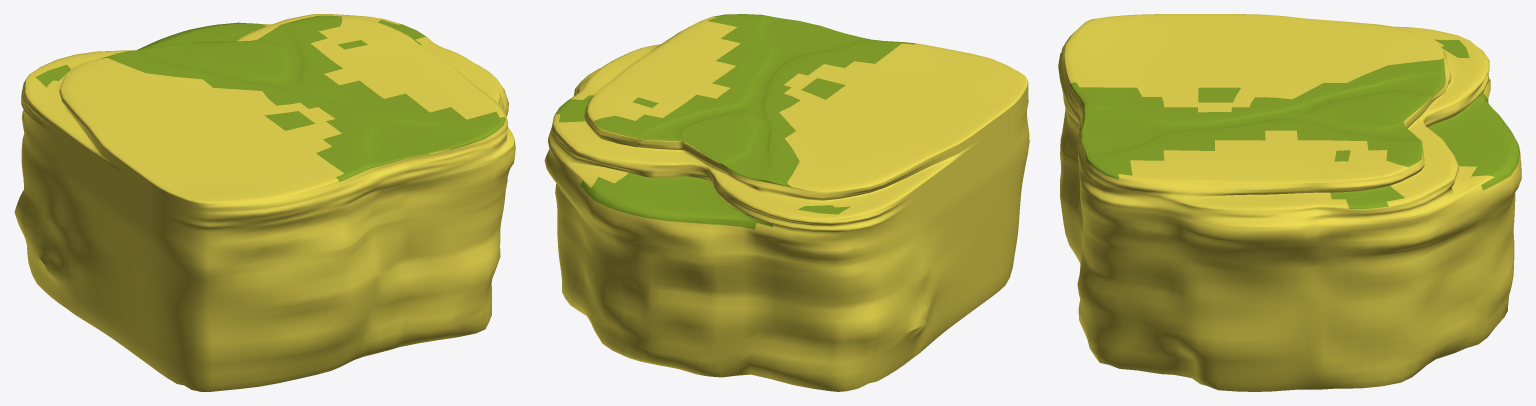
The model's file is MSH_env_plateau_v3.obj.
3 views of the same model, side by side, from view 1: azimuth 30°, elevation 25°; view 2: azimuth 150°, elevation 25°; view 3: azimuth 270°, elevation 25° (orthographic). The views are drawn at different scales.
Parts seen in each view (by area): view 1: MSH_env_plateau_v2 env_base_s6 env_base; view 2: MSH_env_plateau_v2 env_base_s6 env_base; view 3: MSH_env_plateau_v2 env_base_s6 env_base.
Part boxes in pixels (x1,y1,x2,y2): MSH_env_plateau_v2 env_base_s6 env_base: (14, 14, 515, 391); MSH_env_plateau_v2 env_base_s6 env_base: (544, 14, 1029, 391); MSH_env_plateau_v2 env_base_s6 env_base: (1058, 14, 1521, 391).
Bounding box in the file's own units: 223 × 110 × 223.
